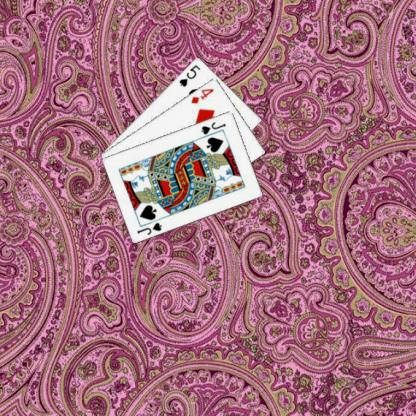4D: (188, 85, 216, 105)
5S: (176, 62, 202, 88)
JS: (134, 219, 164, 236), (198, 119, 227, 136)
